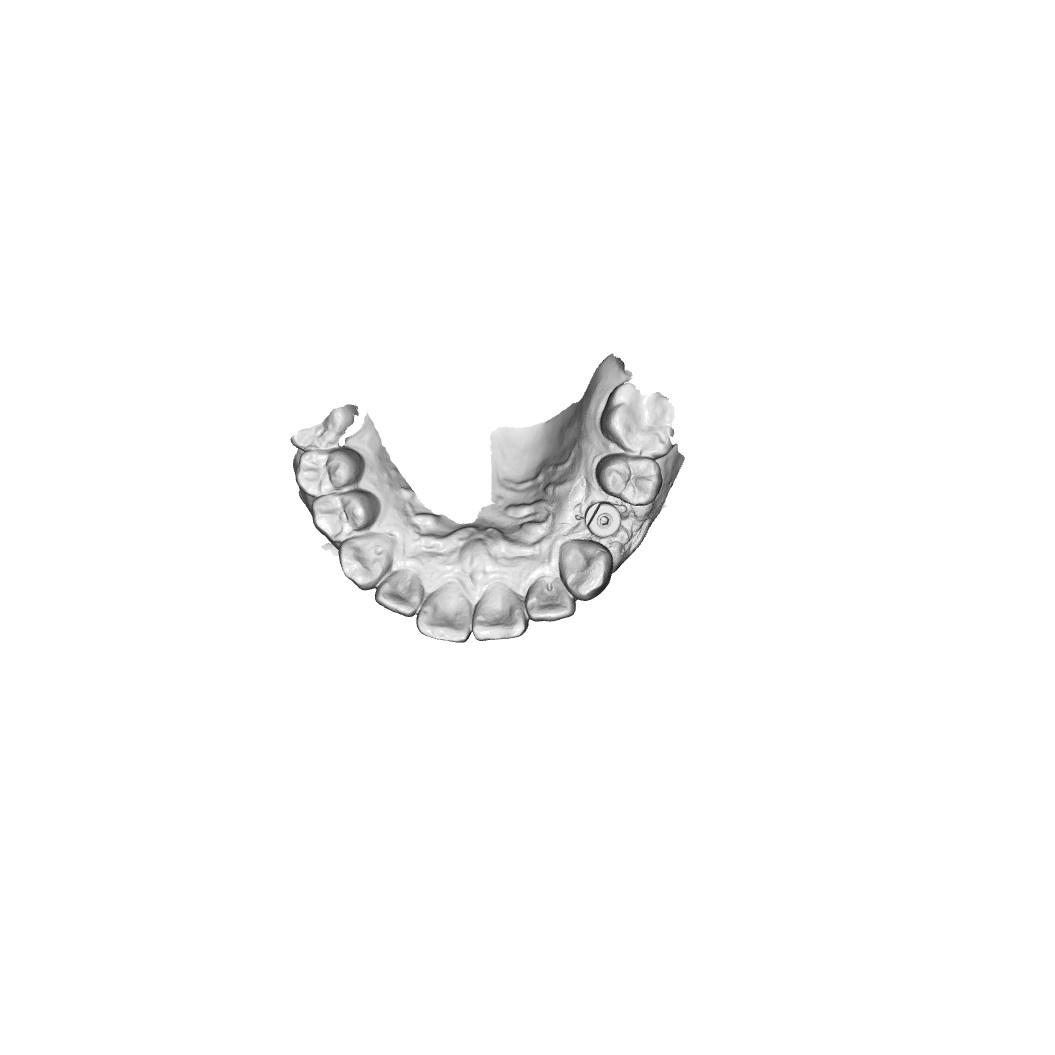canine: (559, 537, 615, 603), (336, 529, 389, 592)
implant: (580, 500, 625, 537)
incisor: (414, 590, 475, 640), (469, 590, 525, 637), (524, 571, 573, 623), (378, 567, 421, 613)
molar: (606, 387, 675, 452)
premolar: (596, 454, 665, 505), (311, 493, 382, 541), (298, 447, 367, 496)
